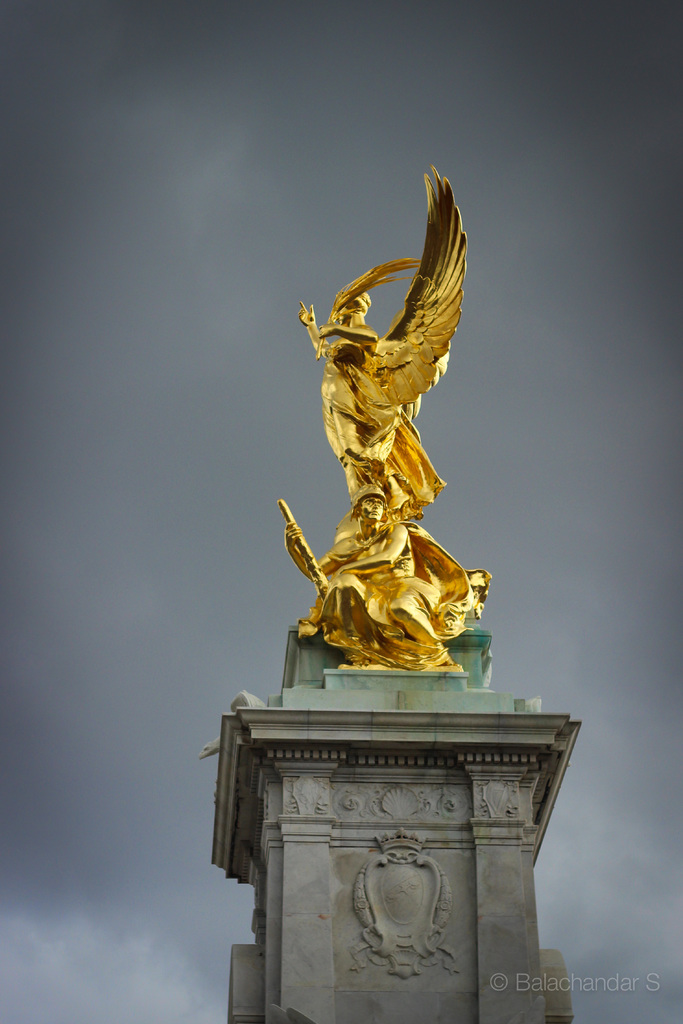person: (293, 163, 491, 676)
